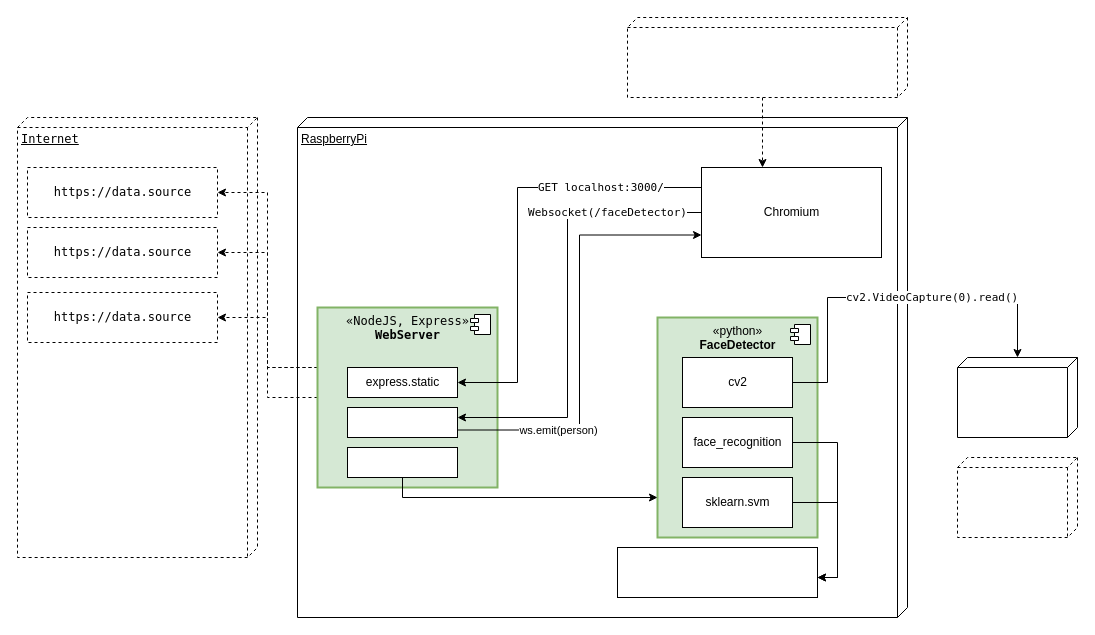
Image size: 1095x635. Some labels were removed from this diagram. Here are the shapes that lost their labels. From the top down, the centre of each, then its label:
point 767,57: TFT
point 1017,397: RasPi Camera
point 402,422: express-ws
point 402,462: python-shell
point 1017,497: Microphone
point 717,572: /home/pi/data/faces
